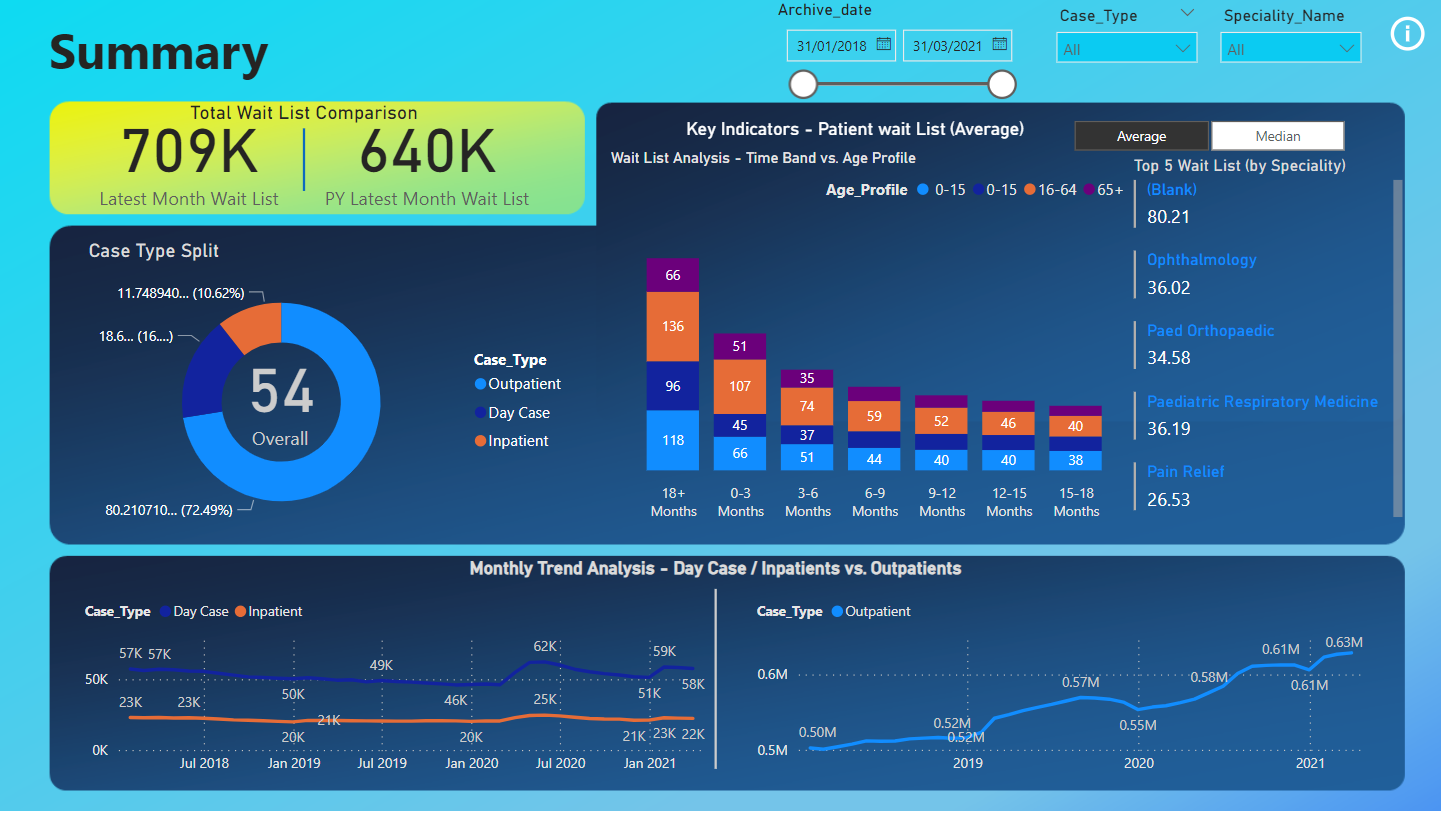

This screenshot's page, from the dashboard's own definition file:
{"tool":"powerbi","page":{"name":"Summary","canvas":[1280,720],"ordinal":0},"visuals":[{"type":"card","fields":{"Values":["All_Data.Latest Month Wait List"]},"box":[40.4,85.2,272.2,112.4],"z":0},{"type":"card","fields":{"Values":["All_Data.PY Latest Month Wait List"]},"box":[241.5,85.2,288,112.4],"z":1000},{"type":"donutChart","title":"Case Type Split","fields":{"Category":["All_Data.Case_Type"],"Y":["All_Data.Avg/Med Wait List"]},"box":[83.4,215.8,434,267.3],"z":2000},{"type":"slicer","fields":{"Values":["Calculation Method (2).Calc Method"]},"box":[928.4,105.5,287.3,39.9],"z":3000},{"type":"columnChart","title":"Wait List Analysis - Time Band vs. Age Profile","fields":{"Y":["All_Data.Avg/Med Wait List"],"Category":["All_Data.Time_Bands"],"Series":["All_Data.Age_Profile"]},"box":[541.9,137.3,465.9,333.5],"z":4000},{"type":"multiRowCard","title":"Top 5 Wait List (by Speciality)","fields":{"Values":["All_Data.Specialty_Name","All_Data.Avg/Med Wait List"]},"box":[1000.9,143.1,246.5,333.9],"z":5000},{"type":"shape","title":"Monthly Trend Analysis - Day Case / Inpatients vs. Outpatients","box":[392.3,495.3,492.9,186.4],"z":5500},{"type":"card","fields":{"Values":["All_Data.NoDataLeft"]},"box":[186.4,522.3,355.6,159.4],"z":6000},{"type":"lineChart","fields":{"Category":["All_Data.Archive_Date"],"Y":["Sum(All_Data.Total)"],"Series":["All_Data.Case_Type"]},"box":[79.5,523,568,171.4],"z":7000},{"type":"card","fields":{"Values":["All_Data.NoDataRight"]},"box":[770,514.5,354.7,159.8],"z":8000},{"type":"lineChart","fields":{"Category":["All_Data.Archive_Date"],"Y":["Sum(All_Data.Total)"],"Series":["All_Data.Case_Type"]},"box":[670,523.3,545.3,171.2],"z":9000},{"type":"slicer","title":"Archive_date","fields":{"Values":["All_Data.Archive_Date"]},"box":[688.4,6.1,223.9,95.7],"z":10000},{"type":"slicer","fields":{"Values":["All_Data.Case_Type"]},"box":[928.1,6.1,144,70.2],"z":11000},{"type":"slicer","fields":{"Values":["All_Data.Speciality_Name"]},"box":[1072.1,6.1,144,70.2],"z":12000},{"type":"textbox","box":[48.3,15.8,212.5,79.9],"z":13000},{"type":"shape","title":"Total Wait List Comparison","box":[127.3,94.8,300.3,79],"z":14000},{"type":"card","fields":{"Values":["All_Data.Avg/Med Wait List"]},"box":[134.9,228,242.8,247.7],"z":16000},{"type":"card","fields":{"Values":["All_Data.Dynamic Title"]},"box":[530.9,94.6,460,49.9],"z":17000},{"type":"actionButton","box":[1227,15.9,39.8,39.8],"z":18000}]}

Visuals, with their boxes in screenshot pixels (x1, y1, x2, y2), scaled from the page's 1280x720 canvas onto the 1441x813 screenshot:
card - All_Data.Latest Month Wait List: (x1=45, y1=96, x2=352, y2=223)
card - All_Data.PY Latest Month Wait List: (x1=272, y1=96, x2=596, y2=223)
"Case Type Split" donutChart: (x1=94, y1=244, x2=582, y2=546)
slicer - Calculation Method (2).Calc Method: (x1=1045, y1=119, x2=1369, y2=164)
"Wait List Analysis - Time Band vs. Age Profile" columnChart: (x1=610, y1=155, x2=1135, y2=532)
"Top 5 Wait List (by Speciality)" multiRowCard: (x1=1127, y1=162, x2=1404, y2=539)
"Monthly Trend Analysis - Day Case / Inpatients vs. Outpatients" shape: (x1=442, y1=559, x2=997, y2=770)
card - All_Data.NoDataLeft: (x1=210, y1=590, x2=610, y2=770)
lineChart - All_Data.Archive_Date x Sum(All_Data.Total): (x1=89, y1=591, x2=729, y2=784)
card - All_Data.NoDataRight: (x1=867, y1=581, x2=1266, y2=761)
lineChart - All_Data.Archive_Date x Sum(All_Data.Total): (x1=754, y1=591, x2=1368, y2=784)
"Archive_date" slicer: (x1=775, y1=7, x2=1027, y2=115)
slicer - All_Data.Case_Type: (x1=1045, y1=7, x2=1207, y2=86)
slicer - All_Data.Speciality_Name: (x1=1207, y1=7, x2=1369, y2=86)
textbox: (x1=54, y1=18, x2=294, y2=108)
"Total Wait List Comparison" shape: (x1=143, y1=107, x2=481, y2=196)
card - All_Data.Avg/Med Wait List: (x1=152, y1=257, x2=425, y2=537)
card - All_Data.Dynamic Title: (x1=598, y1=107, x2=1116, y2=163)
actionButton: (x1=1381, y1=18, x2=1426, y2=63)
